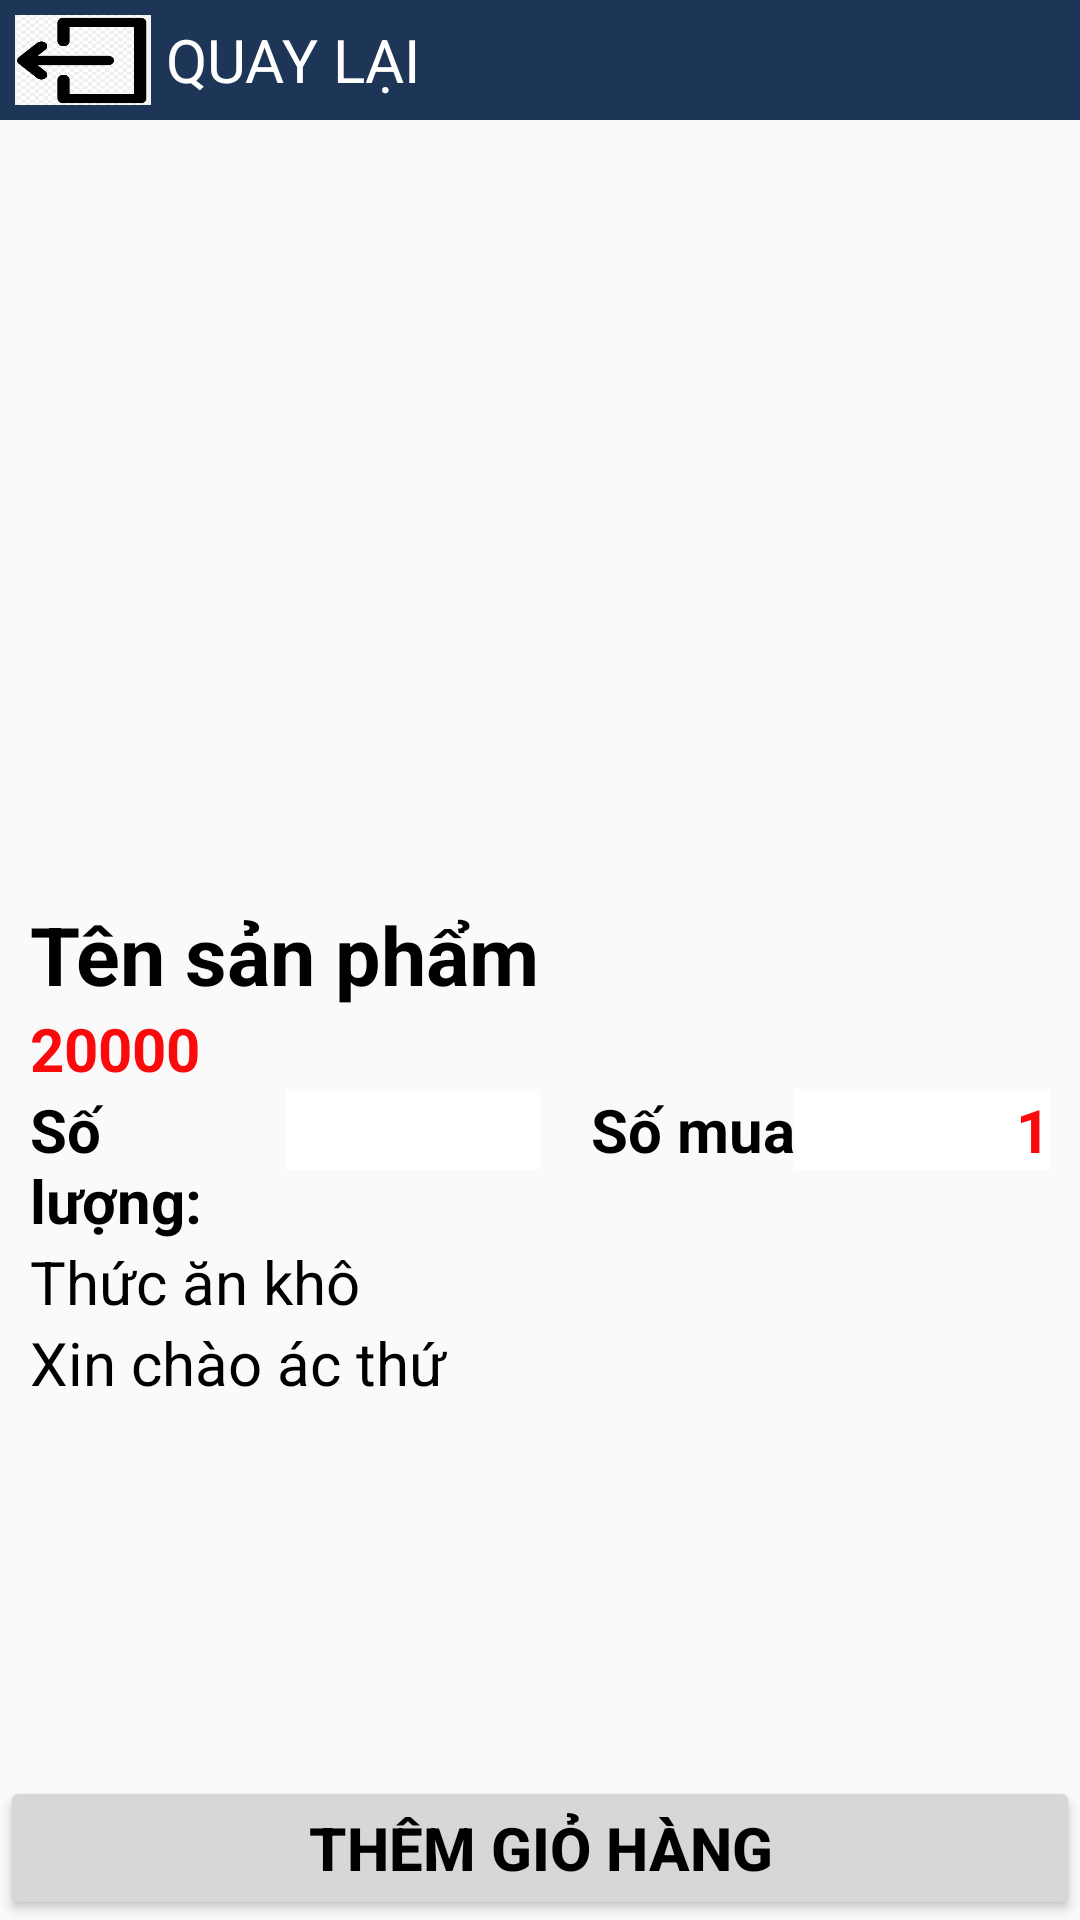

Screen size 1080*1920. Icon name, then its box in pixels as box(x1, y1, x2, y2):
iconexit: box(15, 15, 151, 105)
